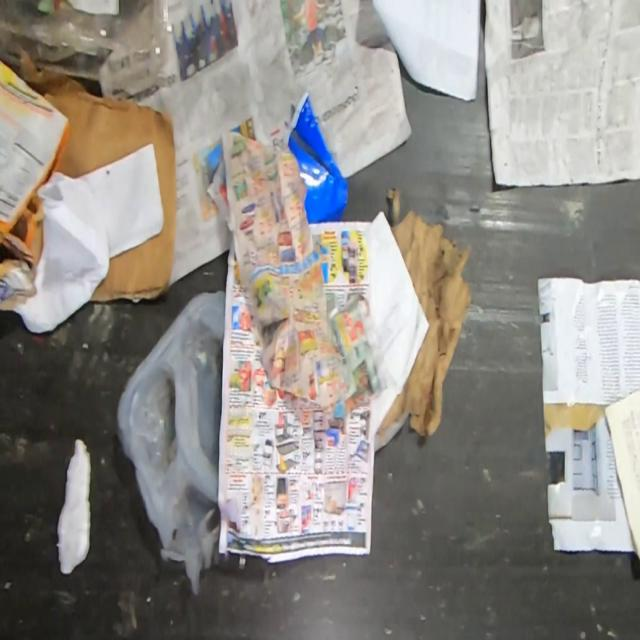cardboard: (18, 45, 179, 306), (376, 186, 474, 438), (0, 59, 69, 249), (0, 228, 38, 312), (30, 218, 42, 266)
rigid_plastic: (116, 291, 226, 597), (0, 0, 176, 96), (281, 89, 349, 224)
